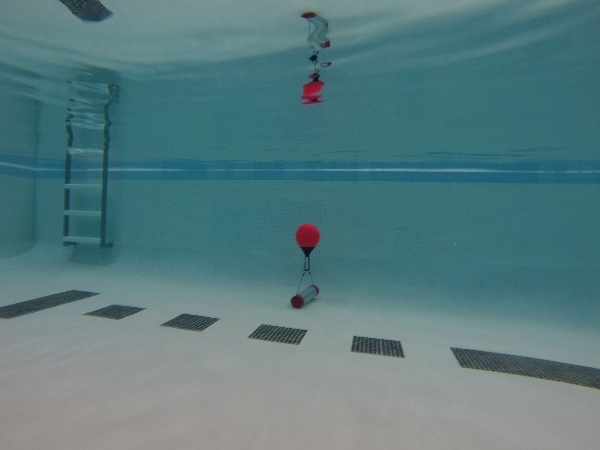buoy_red: (295, 220, 320, 258)
